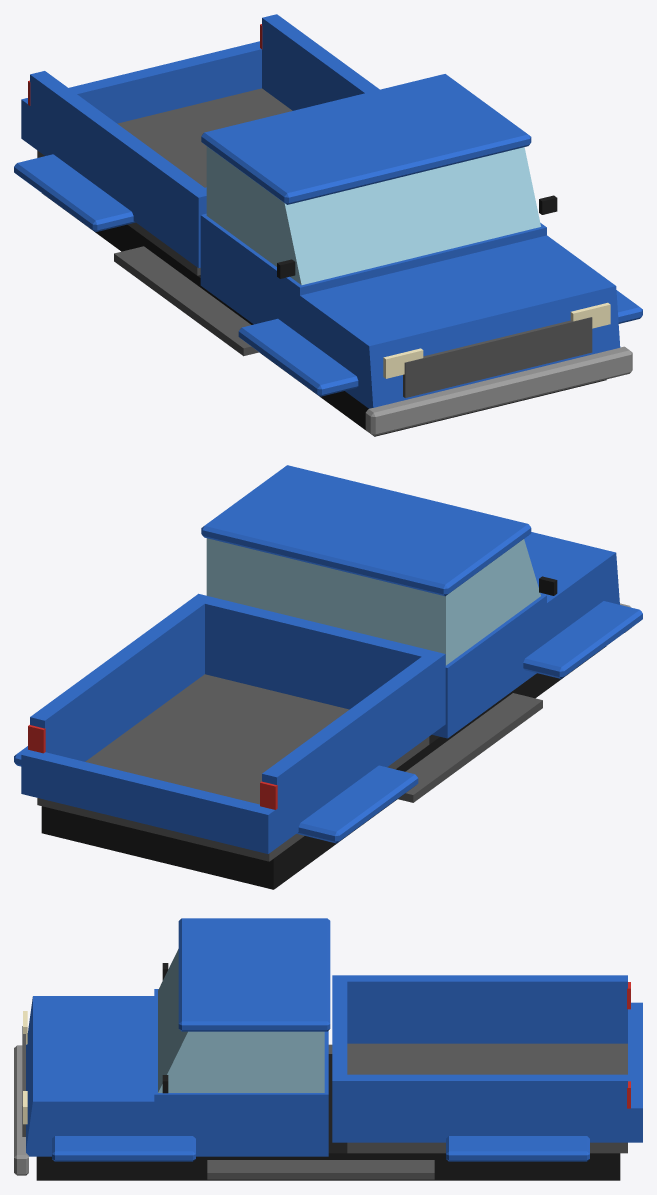
File: TRK_Pickup_Body_Blue.fbx
3 renders of one model, top to bottom at view 1: azimuth 30°, elevation 25°; view 2: azimuth 150°, elevation 25°; view 3: azimuth 270°, elevation 25°, orthographic. The views are drawn at different scales.
Visible parts, largest first — view 1: TRK_Pickup_Body_Blue; view 2: TRK_Pickup_Body_Blue; view 3: TRK_Pickup_Body_Blue.
Boxes of the visible parts, x1,y1,x2,y2 form: TRK_Pickup_Body_Blue: (14,14,642,436); TRK_Pickup_Body_Blue: (14,465,642,889); TRK_Pickup_Body_Blue: (14,918,642,1180).
Bounding box in the file's own units: 8.7 × 4.7 × 16.6.
